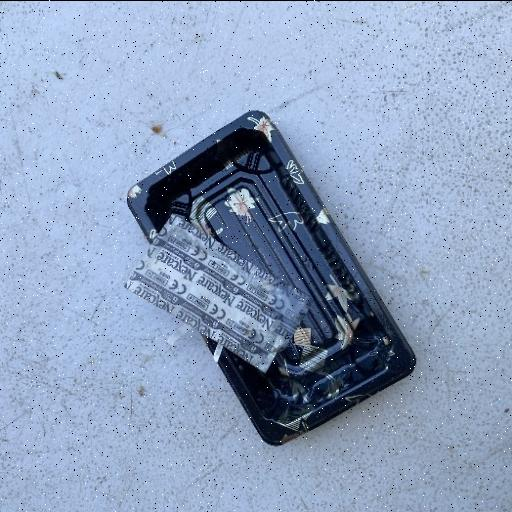Plastic: (121, 108, 417, 448)
